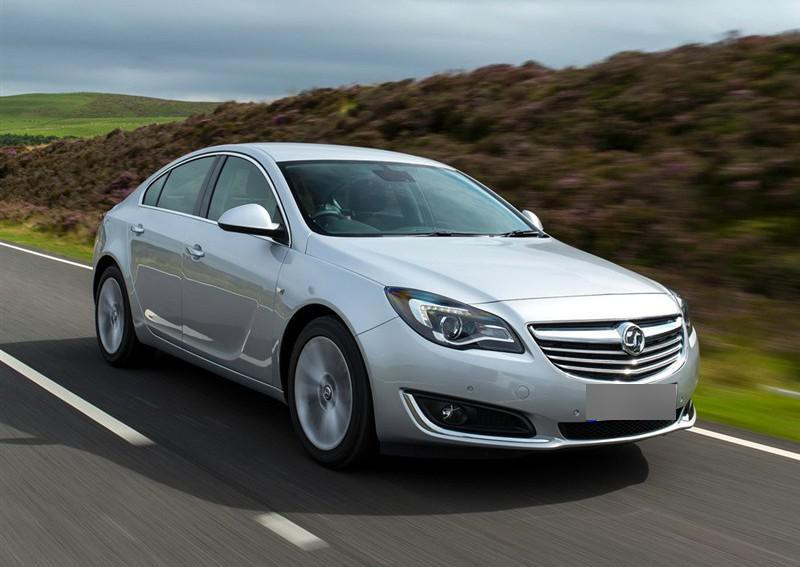Wagon: (93, 143, 702, 470)
